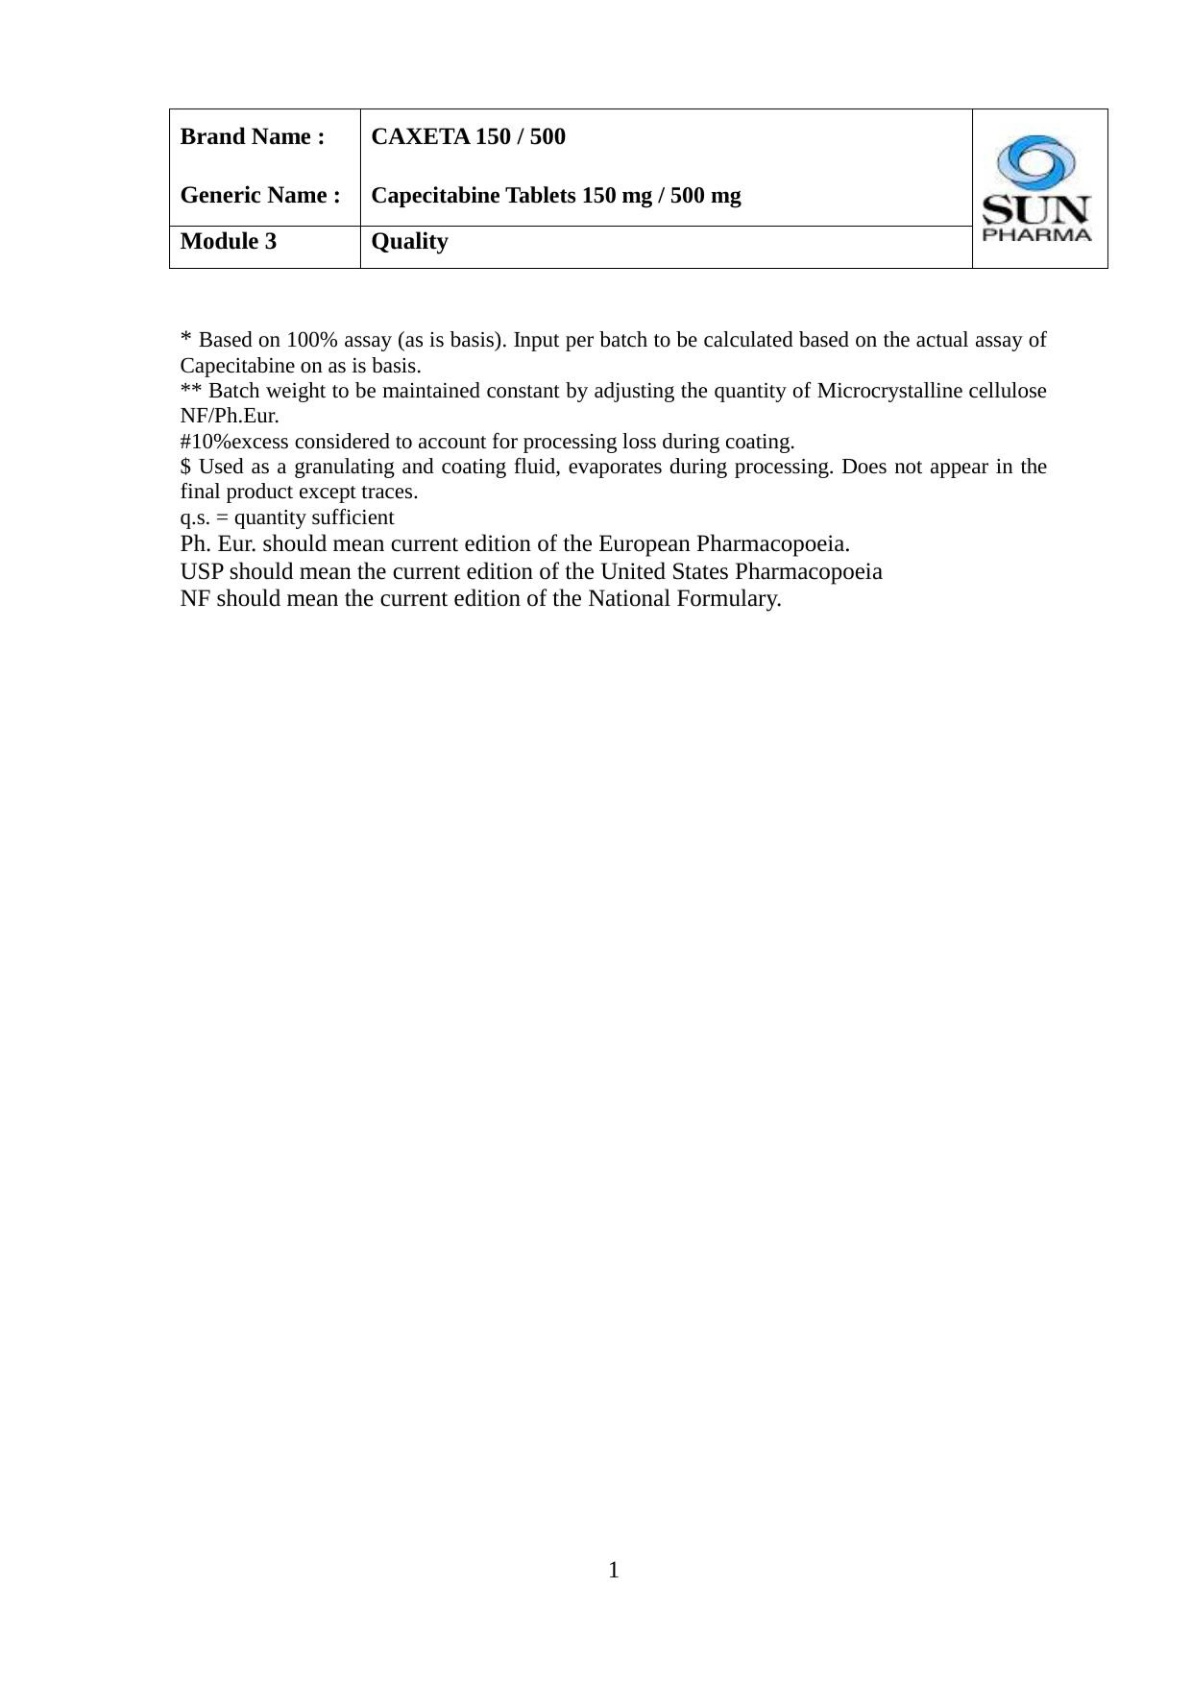merged_cells: (168, 106, 1109, 269)
